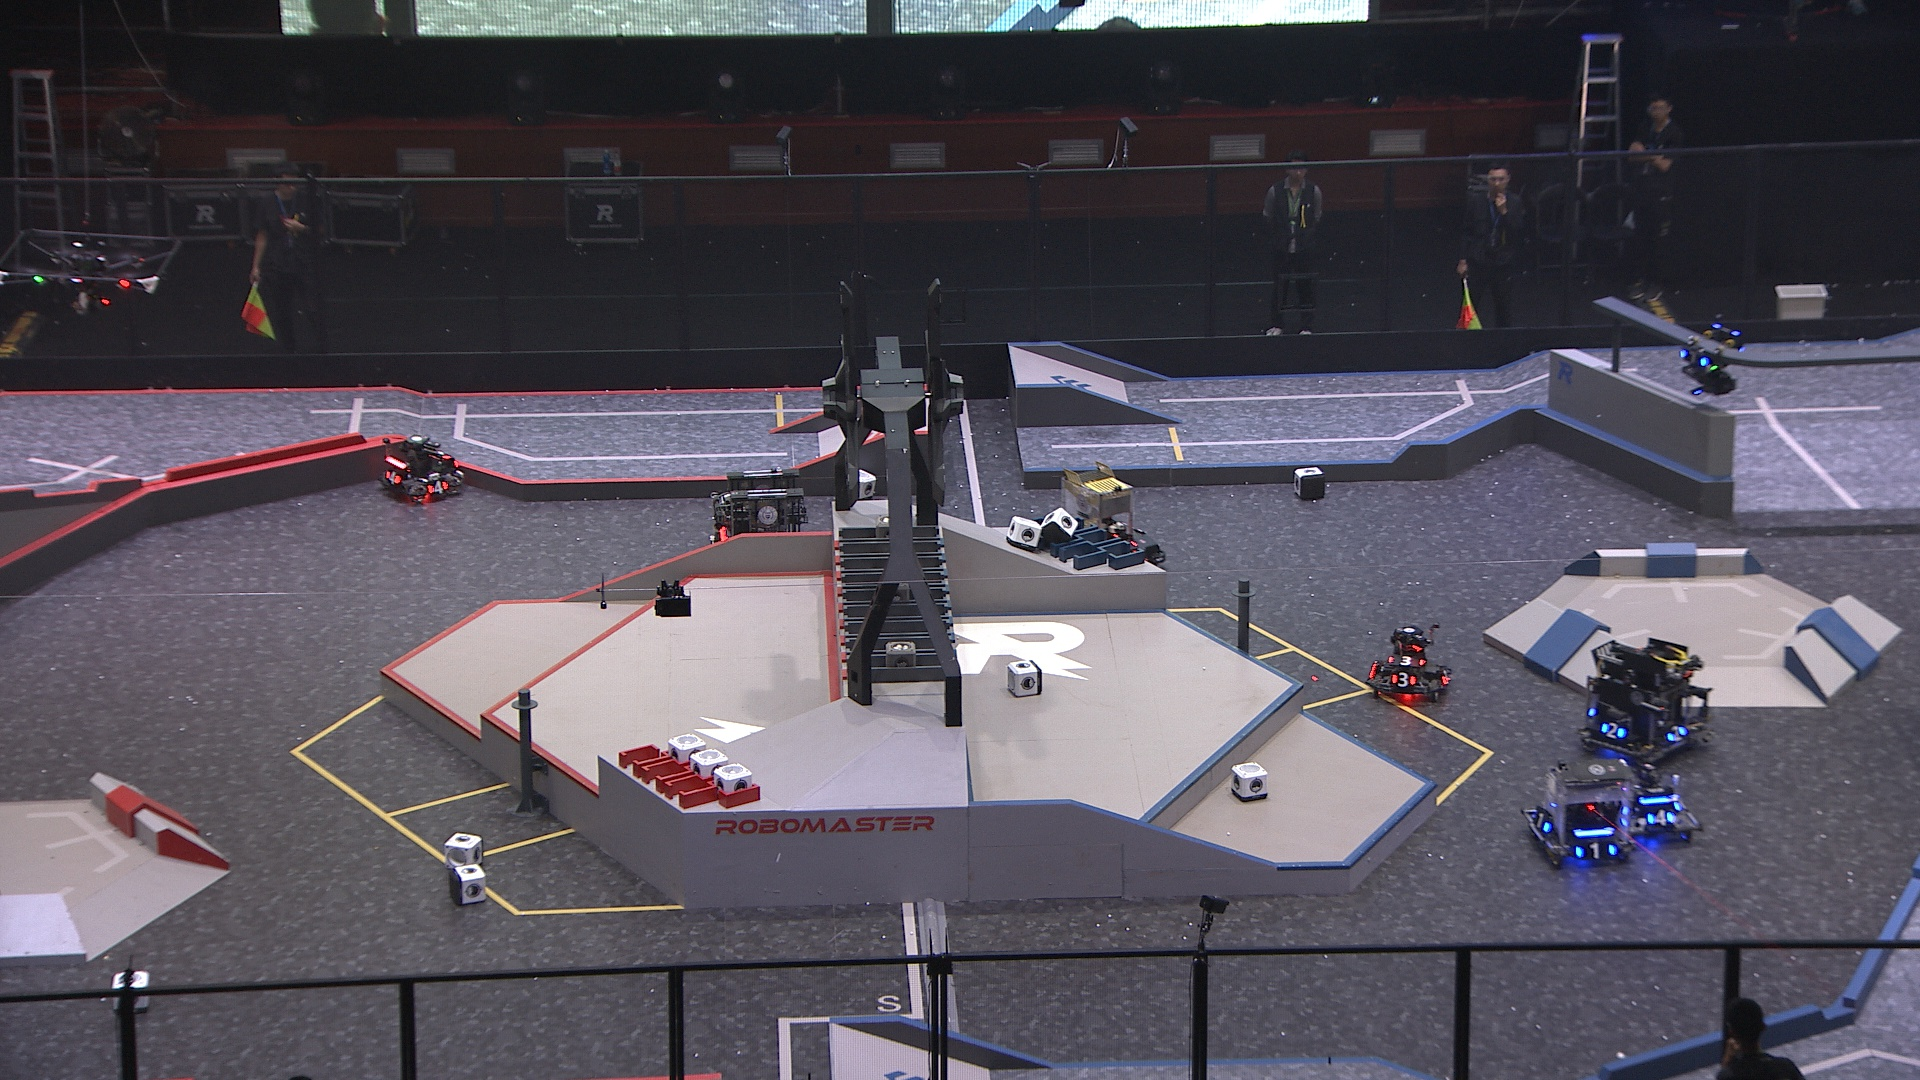armor: (1575, 843, 1618, 858), (1386, 651, 1424, 669), (1679, 348, 1708, 367), (1602, 719, 1626, 741), (1532, 807, 1551, 835), (425, 477, 448, 498), (1391, 669, 1416, 688), (1646, 808, 1673, 825), (1667, 725, 1688, 742), (385, 469, 401, 488), (1673, 796, 1688, 816), (1437, 669, 1452, 687), (436, 448, 455, 462)
car: (1578, 633, 1713, 757), (703, 465, 812, 580), (1055, 467, 1164, 578), (1523, 754, 1636, 861), (1617, 760, 1698, 851), (1365, 622, 1453, 704), (378, 433, 465, 508)
watcher: (1676, 322, 1745, 398)
